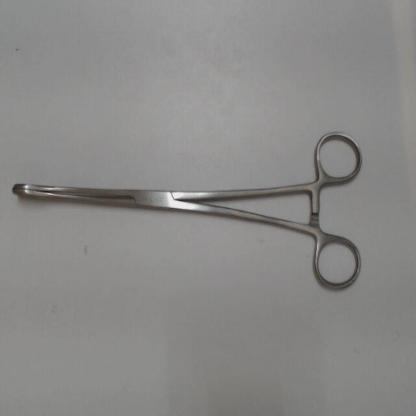Sponge Forceps: (6, 123, 370, 300)
